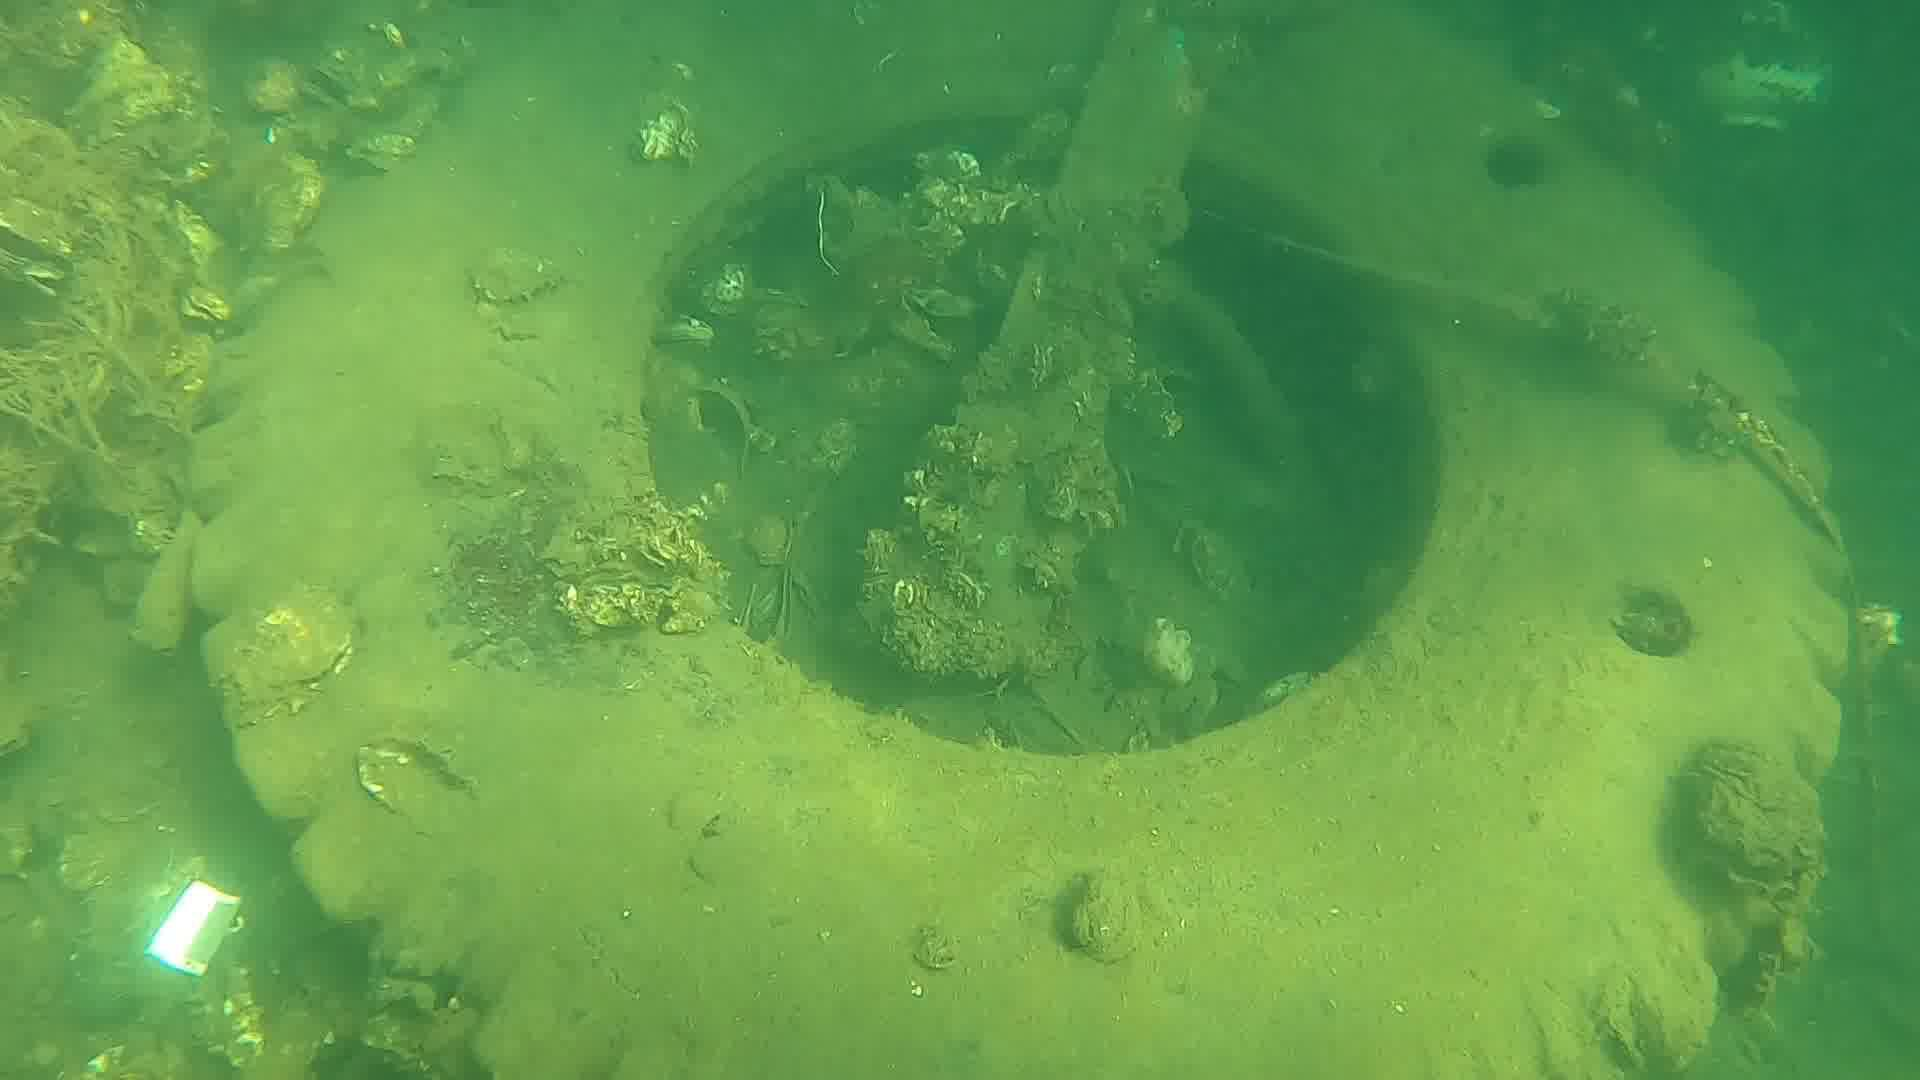tire: (187, 0, 1850, 1080)
